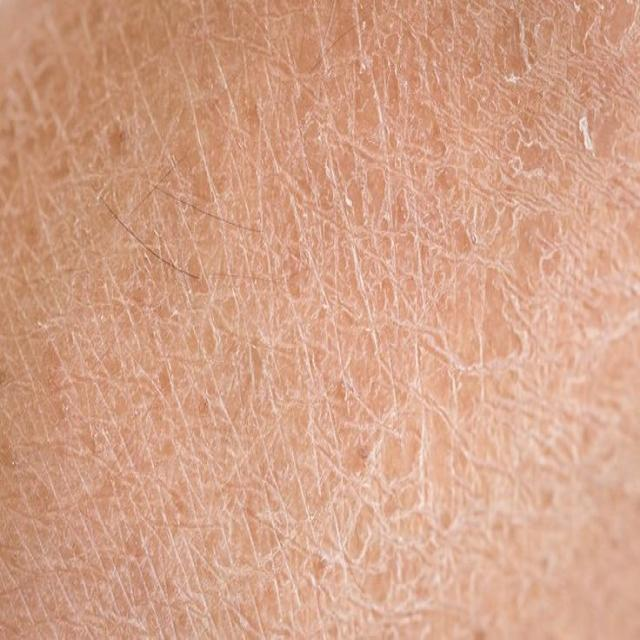Dry-Skin: (442, 137, 566, 406), (255, 166, 374, 364), (23, 44, 142, 202), (113, 367, 209, 557), (408, 17, 528, 122), (316, 445, 406, 580), (277, 8, 346, 166), (11, 293, 62, 486), (571, 62, 640, 199), (458, 471, 544, 570)
